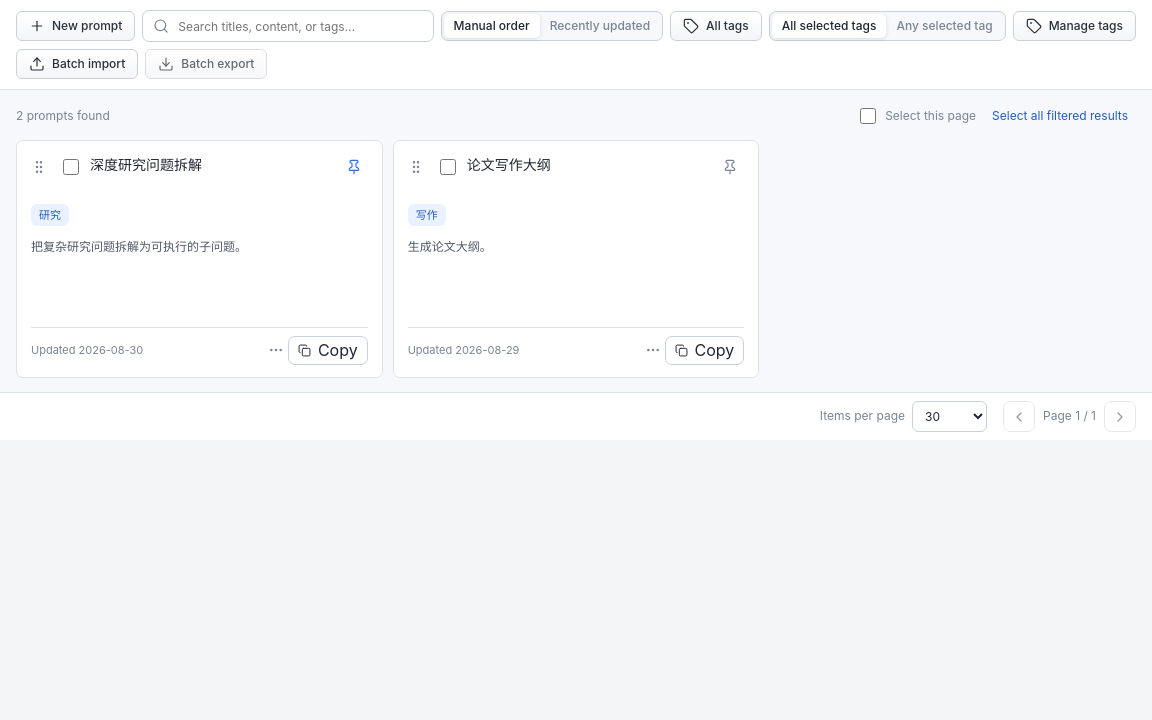
PromptsView › does not let a delayed delete for A close or contaminate the drawer later opened for B
Click the element "深度研究问题拆解" at (199, 259), box [16,140,383,378]
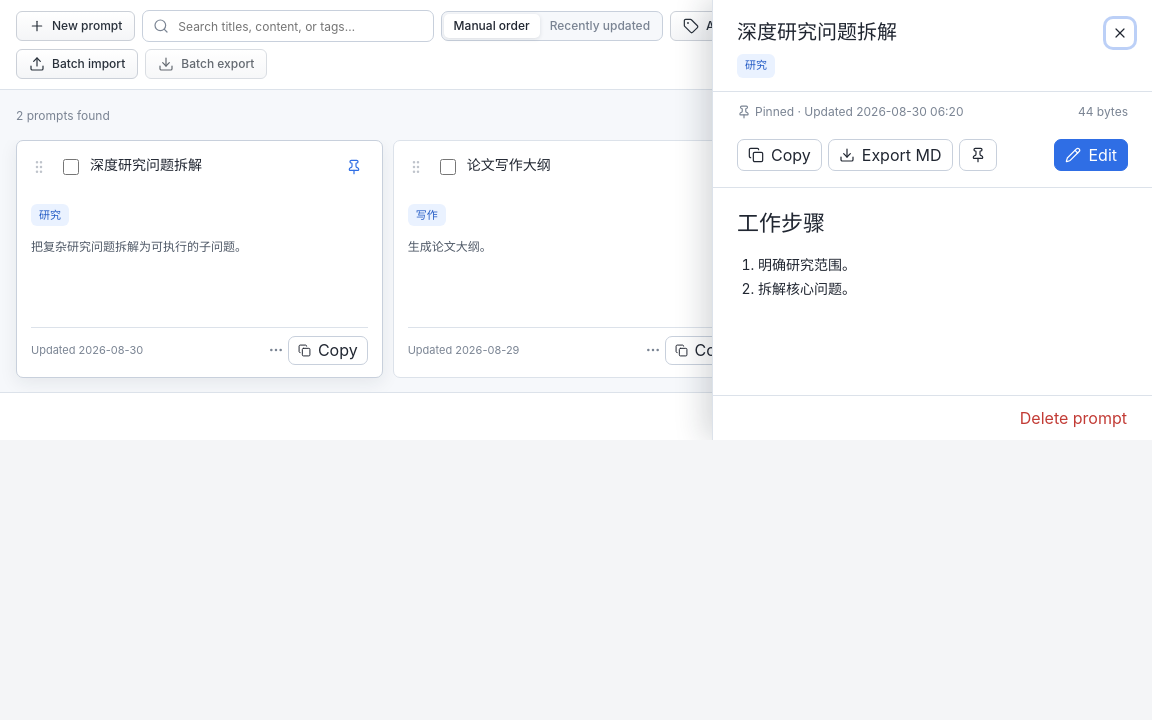
Click the button "Delete prompt" at (1073, 418), box [1012,404,1135,432]
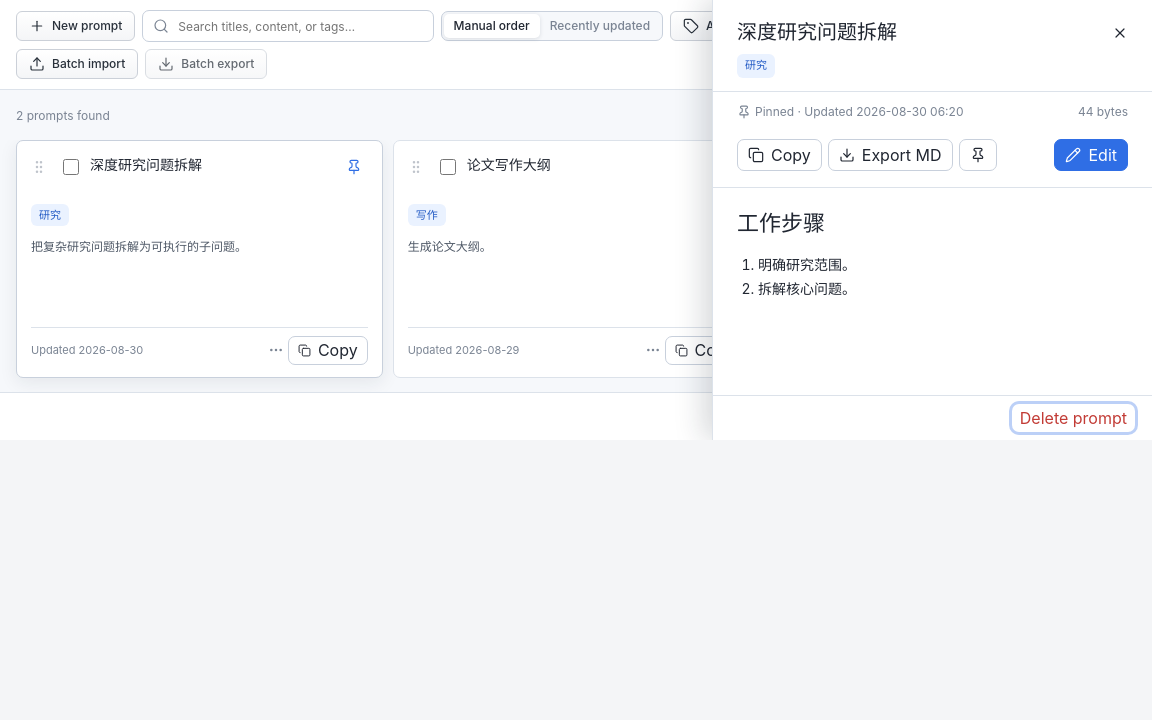
Click the element "论文写作大纲" at (576, 259), box [393,140,759,378]
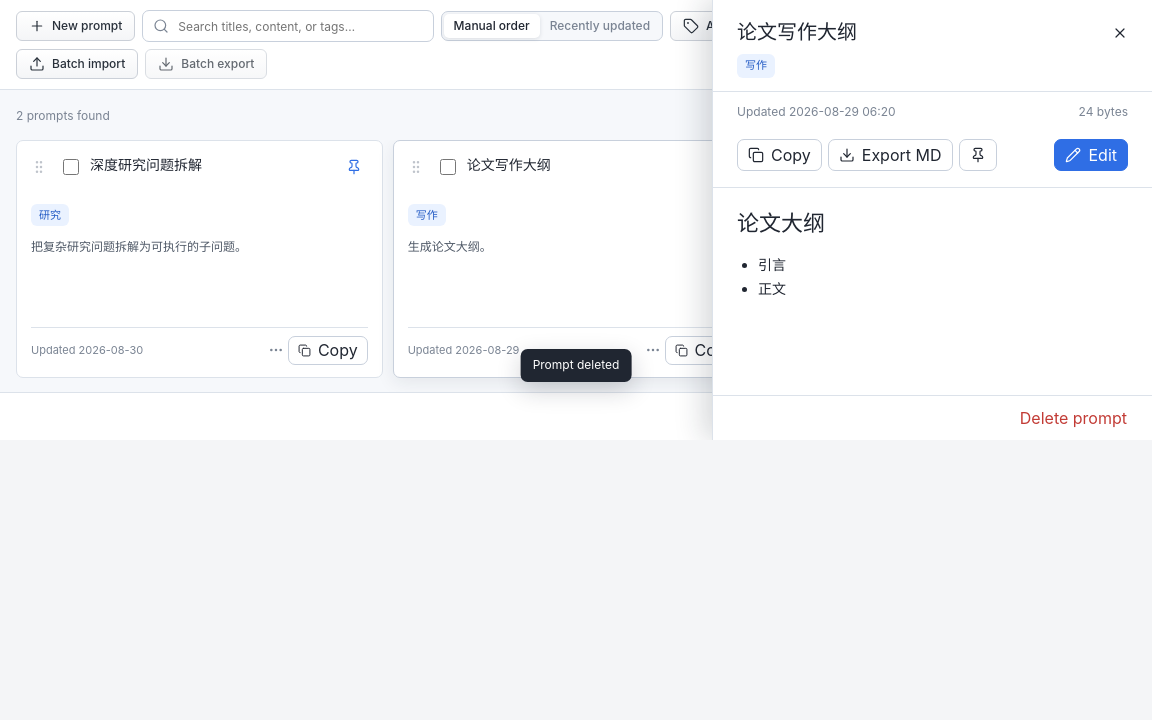
Result: the dialog "论文写作大纲" is shown at [712,0,1151,440]
